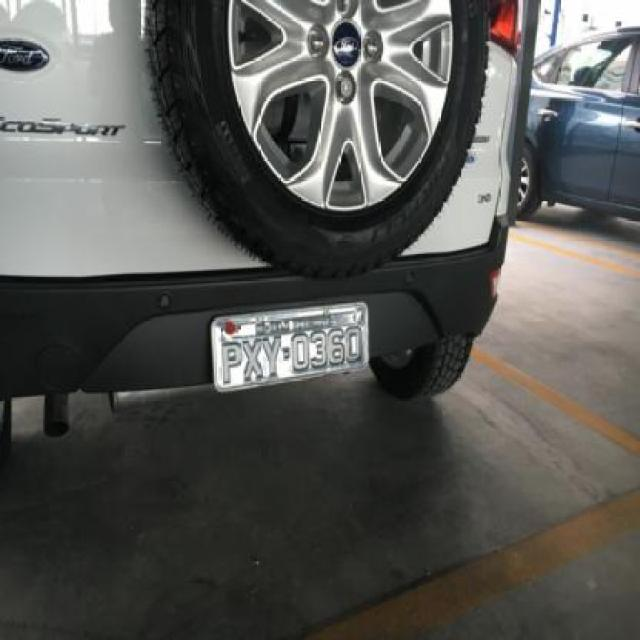old_plate: (205, 296, 375, 400)
